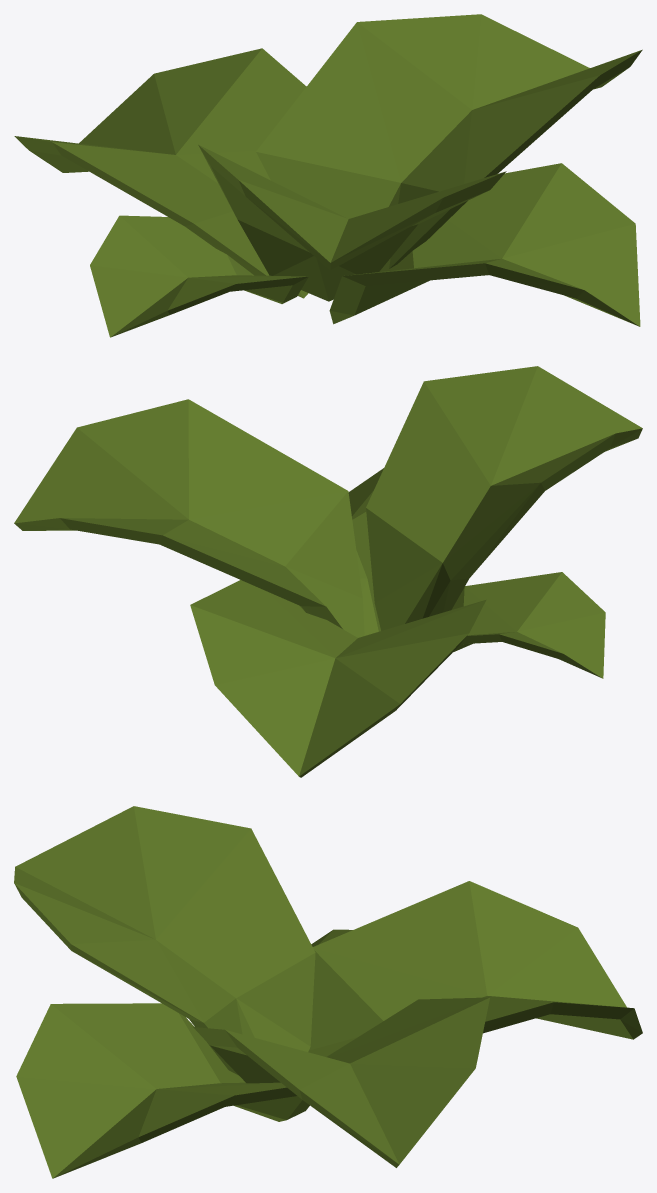
The model's file is Flat_Plant_04.fbx.
3 renders of one model, top to bottom at view 1: azimuth 30°, elevation 25°; view 2: azimuth 150°, elevation 25°; view 3: azimuth 270°, elevation 25°, orthographic. The views are drawn at different scales.
Parts seen in each view (by area): view 1: Plant_04; view 2: Plant_04; view 3: Plant_04.
Part boxes in pixels (<box>): Plant_04: <box>14,14,642,337</box>; Plant_04: <box>14,366,642,777</box>; Plant_04: <box>14,806,642,1178</box>.
Size of the model in its own units: 230 by 93.88 by 228.
